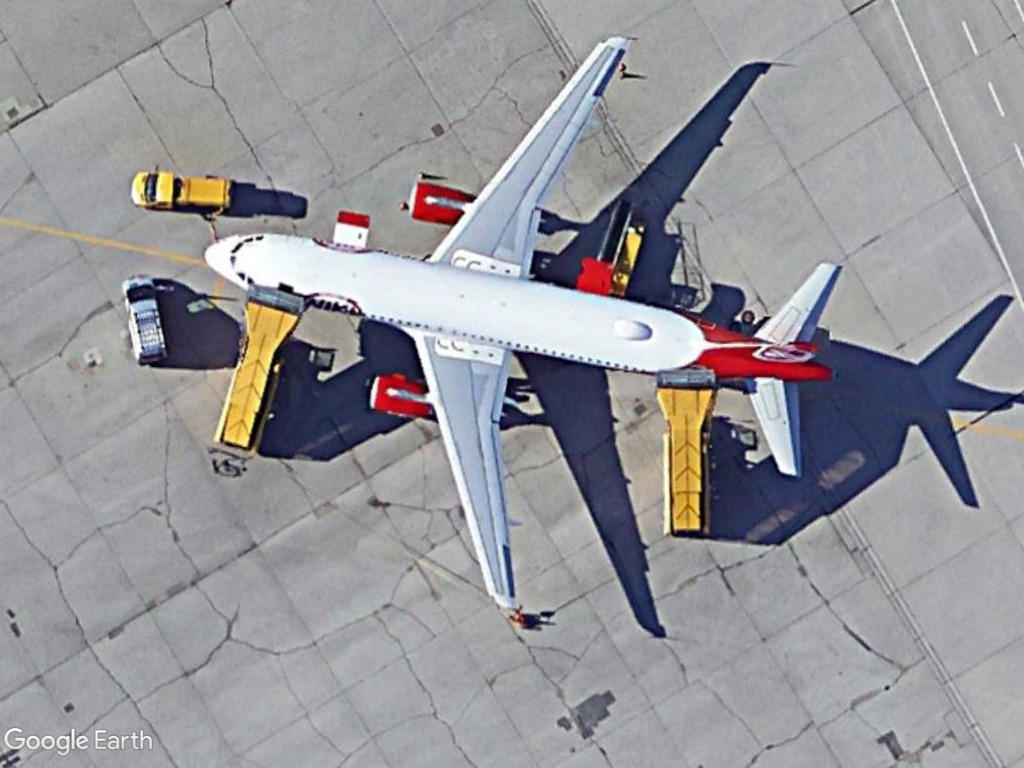airliner: (195, 30, 847, 618)
others: (125, 164, 237, 217)
stairtruck: (209, 285, 307, 457), (652, 367, 722, 543)
van: (119, 269, 173, 370)
